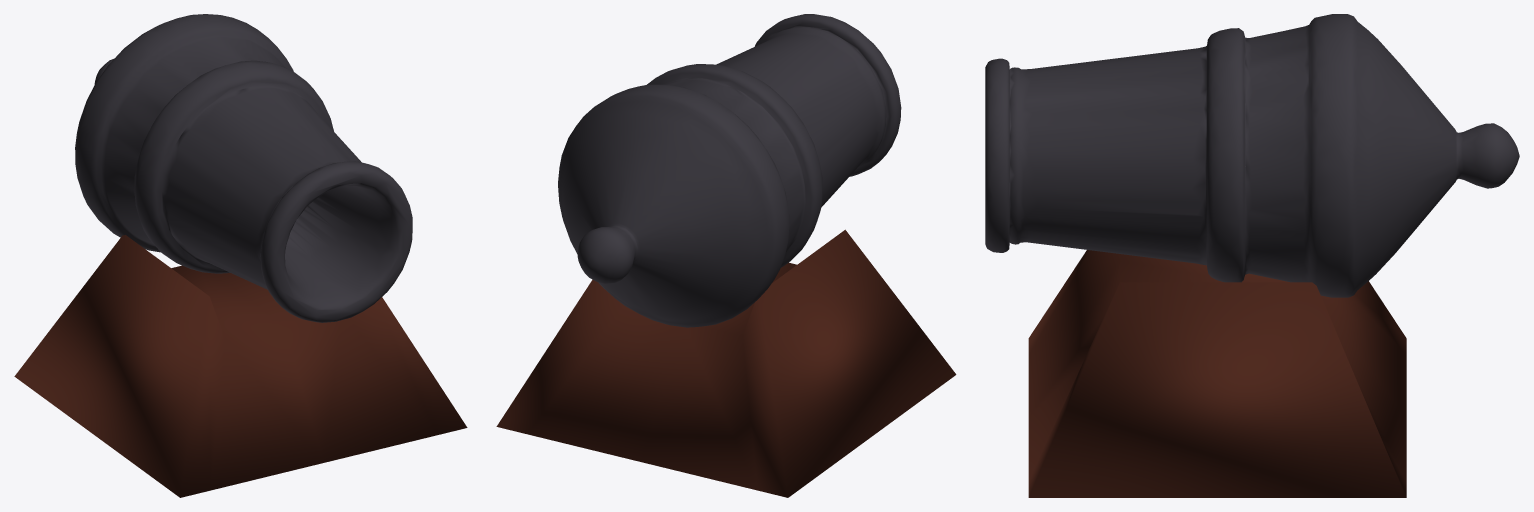
Rendered from cannon.fbx.
3 renders of one model, left to right at view 1: azimuth 30°, elevation 25°; view 2: azimuth 150°, elevation 25°; view 3: azimuth 270°, elevation 25°, orthographic. The views are drawn at different scales.
Parts seen in each view (by area): view 1: 立方体.001; view 2: 立方体.001; view 3: 立方体.001.
Boxes of the visible parts, x1,y1,x2,y2 form: 立方体.001: [14, 14, 467, 497]; 立方体.001: [496, 14, 956, 497]; 立方体.001: [985, 14, 1519, 497].
Size of the model in its own units: 2219 by 2533 by 3139.
